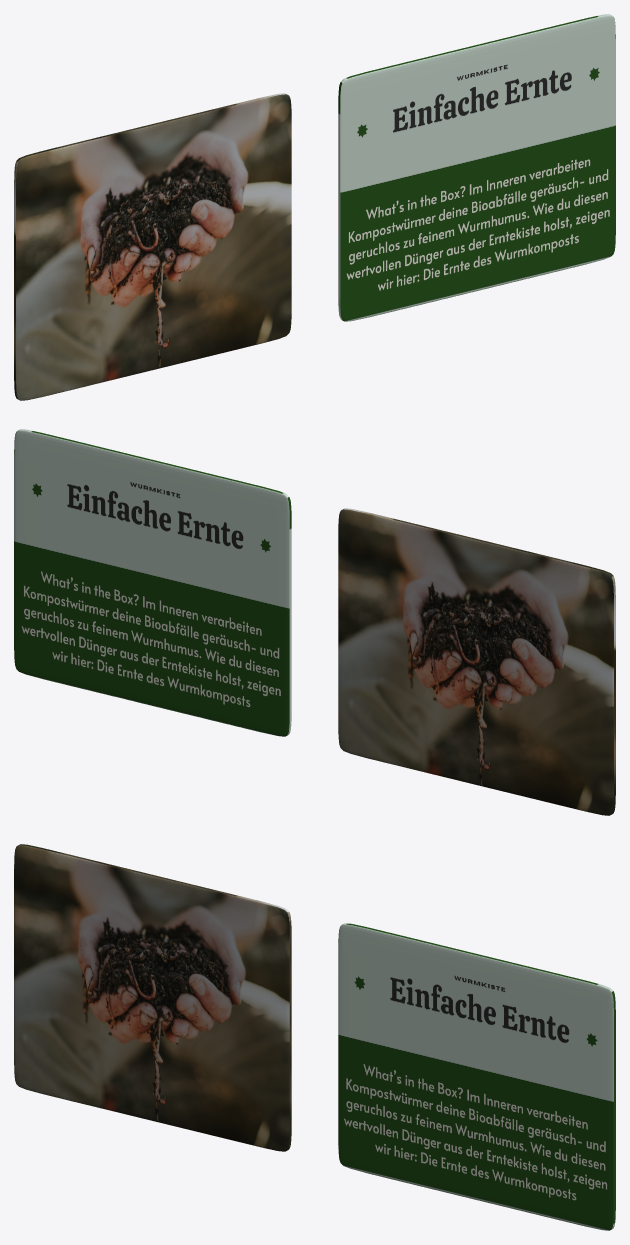
Rendered from info_3.gltf.
The picture shows the model from 3 angles, top to bottom: view 1: azimuth 30°, elevation 25°; view 2: azimuth 150°, elevation 25°; view 3: azimuth 330°, elevation 25°; orthographic projection.
Parts seen in each view (by area): view 1: Cube.001, Cube.002; view 2: Cube.001, Cube.002; view 3: Cube.001, Cube.002.
Part boxes in pixels (x1=…): Cube.001: x1=14, y1=93, x2=291, y2=400; Cube.002: x1=338, y1=14, x2=615, y2=321; Cube.001: x1=338, y1=508, x2=615, y2=815; Cube.002: x1=14, y1=429, x2=291, y2=736; Cube.001: x1=14, y1=844, x2=291, y2=1151; Cube.002: x1=338, y1=923, x2=615, y2=1230.
Bounding box in the file's own units: 0.6006 × 0.234 × 0.00441.
Materials: 2 (2 with a texture image).
